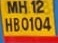character: (42, 16, 51, 31), (7, 1, 18, 13), (21, 16, 29, 30), (34, 16, 42, 30), (18, 1, 27, 13), (5, 17, 12, 32), (13, 17, 20, 31), (36, 1, 44, 13), (28, 16, 34, 31), (30, 1, 36, 13)
